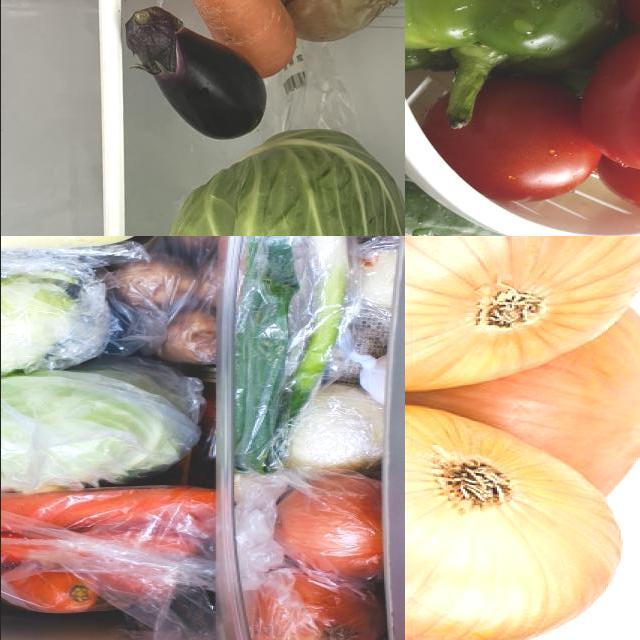bell_pepper: (405, 1, 623, 130)
cabbage: (69, 124, 405, 237)
carrot: (96, 1, 303, 84), (1, 488, 218, 539), (1, 574, 97, 611)
eggplant: (119, 3, 267, 143)
onion: (405, 403, 621, 640), (405, 311, 640, 503), (405, 237, 640, 392), (270, 470, 388, 576), (242, 570, 373, 640), (245, 1, 405, 47)
tomato: (433, 70, 601, 208), (584, 31, 640, 171)
